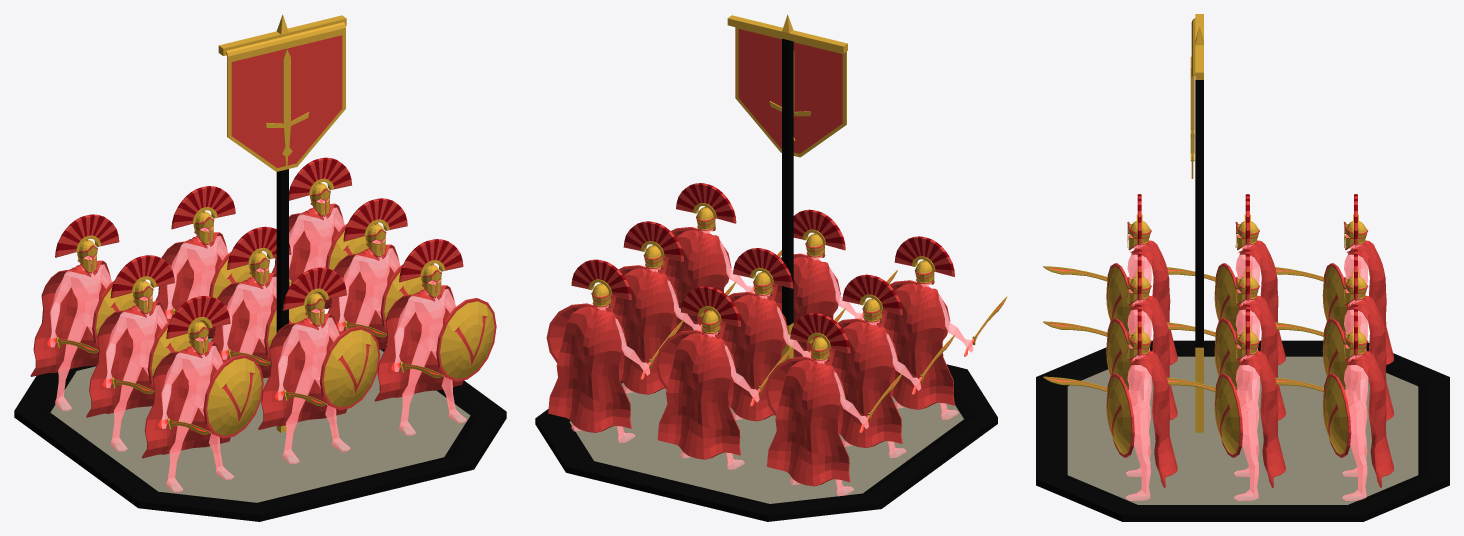
File: red sword unit merged.fbx
3 renders of one model, left to right at view 1: azimuth 30°, elevation 25°; view 2: azimuth 150°, elevation 25°; view 3: azimuth 270°, elevation 25°, orthographic. The views are drawn at different scales.
Parts seen in each view (by area): view 1: Cube; view 2: Cube; view 3: Cube.
Boxes of the visible parts, x1,y1,x2,y2 form: Cube: [14, 14, 506, 521]; Cube: [535, 14, 1007, 521]; Cube: [1036, 14, 1449, 521].
Bounding box in the file's own units: 500 × 545 × 500.
